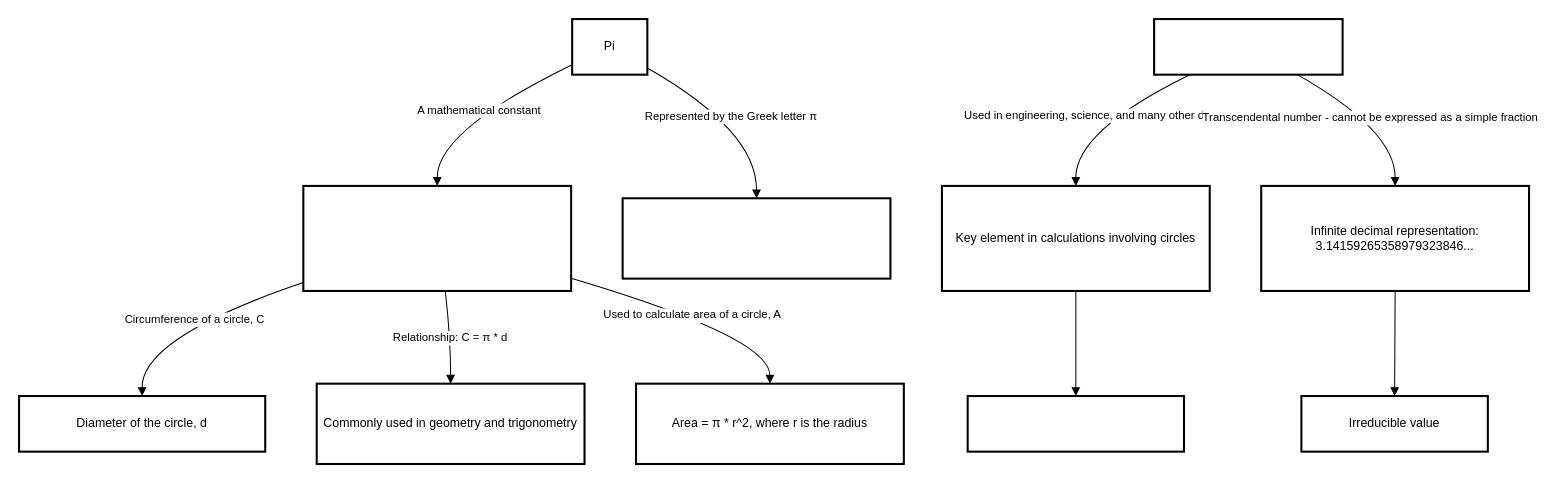
Image size: 1556x482. Some labels were removed from this diagram. The box of each missing label's shape, as (x1, y1, x2, y2) in pixels:
Approximately equal to 3.14159: (621, 197, 891, 279)
Formula applications: (966, 394, 1184, 452)
Ratio of a circle's circumference to its diameter: (302, 184, 572, 291)
Significance of Pi: (1153, 18, 1343, 75)
